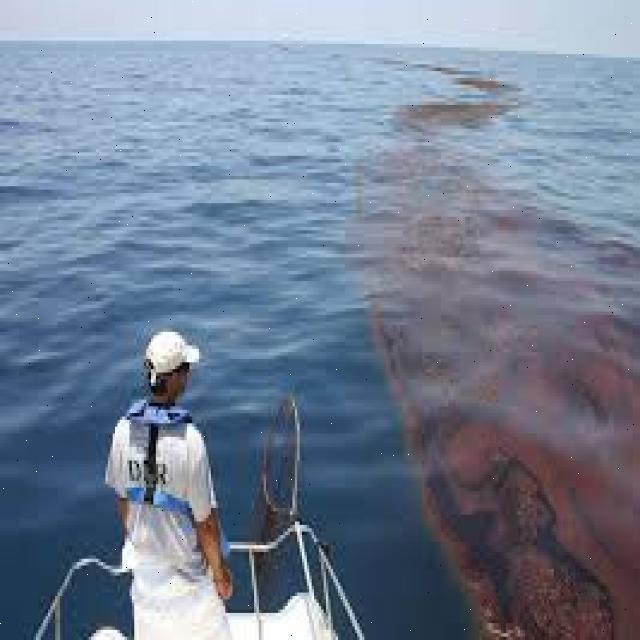oil: (355, 44, 640, 640)
